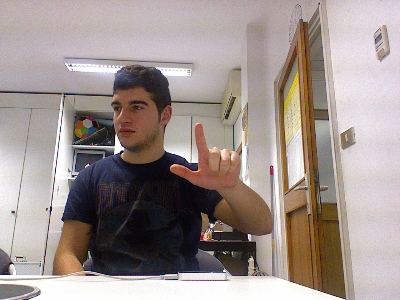枪: (168, 122, 241, 191)
